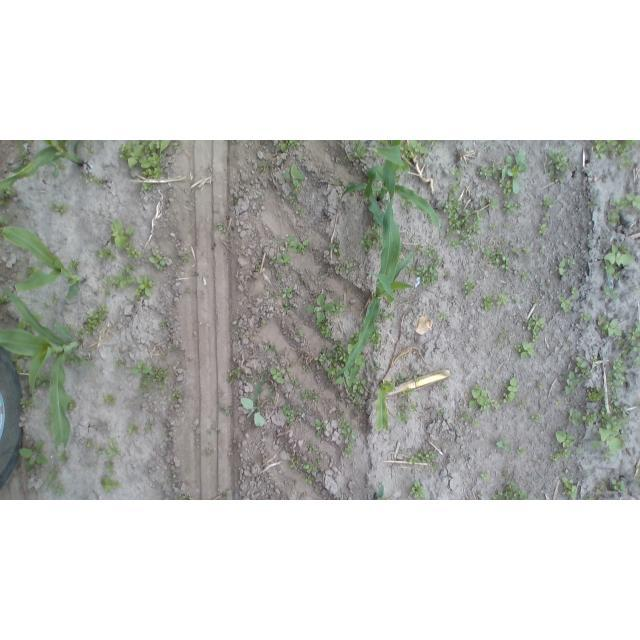Maize: (333, 141, 416, 380), (0, 286, 82, 448), (340, 141, 442, 238), (1, 225, 85, 304), (1, 141, 84, 192), (377, 379, 396, 434), (373, 483, 384, 500)
Weeds: (441, 178, 498, 247), (118, 140, 178, 190), (475, 149, 531, 198), (85, 438, 124, 491), (610, 339, 640, 407), (591, 140, 637, 169), (591, 427, 627, 460), (607, 193, 640, 228), (547, 146, 577, 184), (317, 339, 348, 375), (337, 370, 370, 402), (337, 418, 362, 459), (603, 244, 634, 277), (565, 356, 590, 396), (103, 266, 135, 297), (599, 402, 633, 430), (408, 264, 443, 288), (240, 398, 267, 427), (468, 383, 493, 414), (20, 438, 48, 465), (307, 294, 333, 322), (282, 160, 306, 189), (110, 219, 132, 250), (481, 248, 510, 271), (490, 482, 527, 500), (399, 141, 434, 160), (86, 304, 108, 332), (524, 314, 549, 337), (255, 373, 276, 399), (597, 316, 622, 337), (553, 253, 576, 275), (282, 402, 303, 426), (483, 292, 508, 312), (501, 377, 519, 404), (286, 235, 311, 254), (46, 468, 63, 494), (514, 338, 535, 358), (134, 276, 154, 297), (555, 430, 577, 449), (561, 477, 579, 500), (417, 242, 440, 260), (149, 247, 168, 268), (302, 461, 318, 484), (231, 365, 250, 384), (602, 283, 622, 301), (301, 388, 322, 405), (409, 448, 437, 460), (130, 360, 152, 375), (307, 443, 325, 461), (96, 440, 119, 454), (551, 448, 571, 464), (98, 477, 119, 492), (397, 403, 411, 425), (461, 279, 477, 298), (152, 366, 167, 386), (502, 200, 523, 214), (586, 386, 604, 402), (411, 481, 427, 499), (354, 141, 369, 160), (558, 296, 575, 312), (271, 368, 286, 386), (330, 241, 349, 255), (581, 411, 597, 427), (320, 321, 334, 339), (540, 194, 559, 207), (281, 141, 299, 154), (317, 419, 330, 437), (568, 408, 580, 427), (139, 375, 151, 394), (361, 234, 373, 253), (53, 161, 68, 176), (15, 364, 29, 380), (629, 319, 640, 339), (372, 327, 382, 349), (84, 172, 102, 184), (539, 215, 549, 236), (98, 249, 117, 260), (372, 226, 383, 244), (169, 388, 184, 401), (380, 308, 394, 321), (409, 403, 423, 416), (36, 374, 49, 388), (613, 478, 628, 490), (332, 301, 344, 316), (52, 202, 68, 213), (260, 159, 272, 173), (263, 344, 281, 353), (372, 362, 385, 374), (497, 439, 511, 450), (288, 194, 302, 205), (127, 247, 141, 258), (513, 246, 532, 254), (356, 356, 368, 368), (290, 451, 298, 469), (104, 393, 116, 405), (282, 286, 294, 298), (401, 389, 417, 398), (580, 312, 591, 325), (288, 377, 301, 388), (117, 358, 128, 371), (280, 254, 293, 265), (60, 451, 70, 465), (19, 399, 33, 409), (221, 406, 236, 415), (344, 261, 353, 276), (103, 460, 115, 471), (69, 260, 82, 270), (1, 216, 10, 230), (27, 265, 39, 275), (520, 270, 529, 283), (217, 223, 227, 234), (530, 413, 542, 422), (517, 447, 527, 457), (42, 301, 52, 311), (1, 293, 11, 303), (470, 240, 480, 250), (159, 320, 170, 329), (18, 320, 29, 329), (436, 312, 448, 320), (183, 252, 191, 264), (597, 485, 606, 495), (396, 373, 405, 383), (7, 186, 18, 194), (261, 314, 268, 326), (451, 168, 463, 175), (295, 208, 304, 217), (569, 286, 579, 294), (462, 409, 470, 419), (585, 493, 596, 500), (129, 424, 136, 435), (481, 471, 490, 479), (630, 282, 639, 290), (236, 328, 245, 336), (79, 328, 88, 336), (87, 146, 95, 155), (284, 301, 293, 309), (472, 418, 480, 426), (270, 256, 277, 265), (555, 398, 562, 407), (585, 200, 594, 207), (35, 313, 44, 320), (51, 293, 60, 300), (275, 272, 282, 280), (537, 380, 544, 388), (295, 331, 303, 338), (438, 409, 446, 415), (519, 401, 525, 409), (496, 338, 504, 344), (63, 306, 71, 312), (0, 198, 6, 206), (493, 401, 499, 408), (414, 375, 420, 382), (177, 495, 187, 499)
